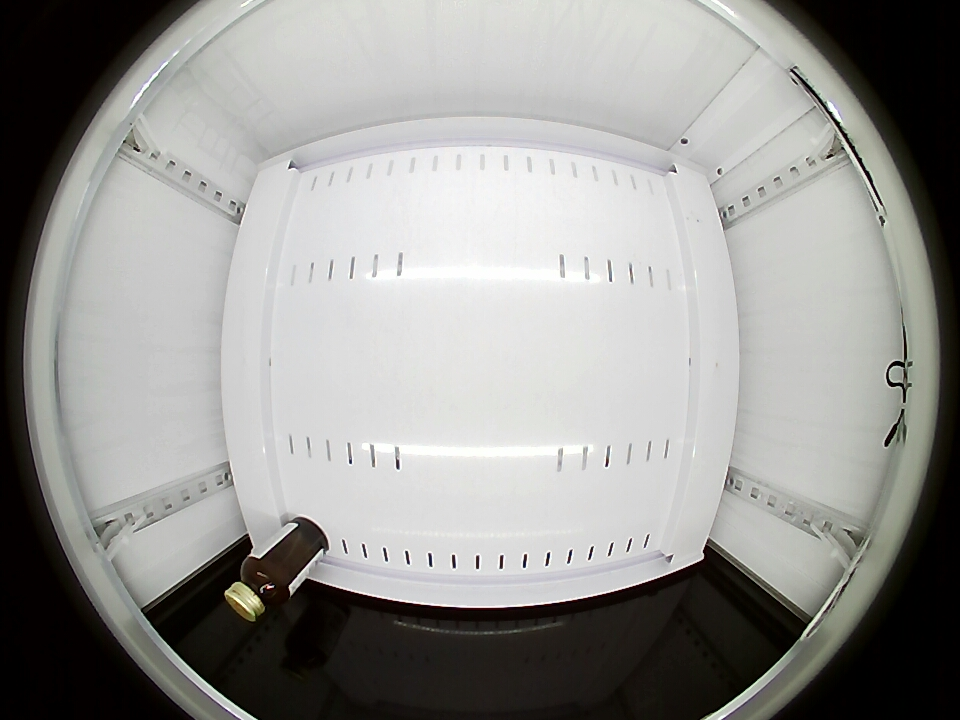libaojian: (225, 555, 292, 621)
